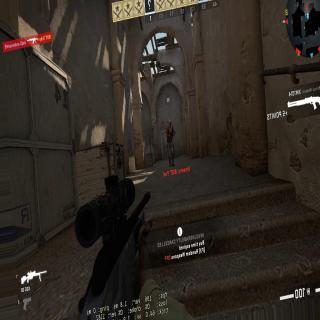T-Body: (166, 119, 174, 160)
T-Head: (168, 120, 172, 128)
